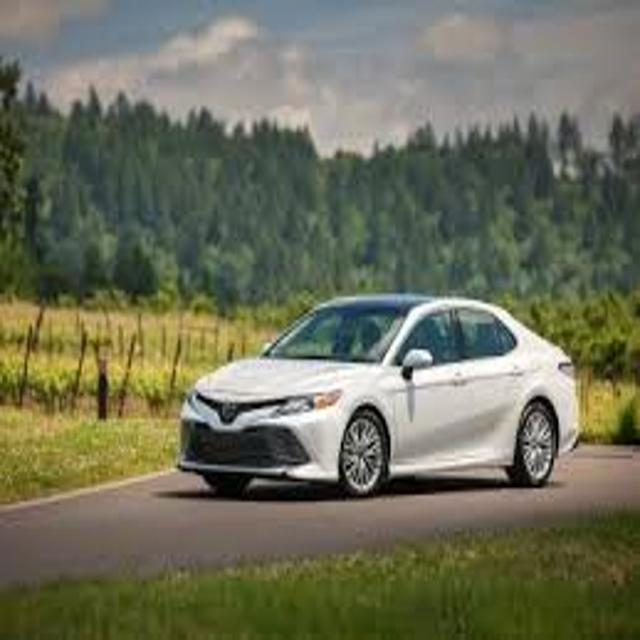car: (179, 293, 580, 494)
